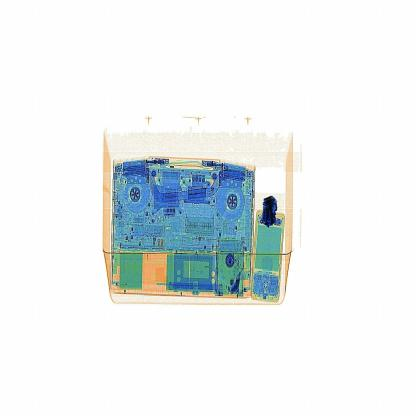scissors: (257, 187, 283, 236)
